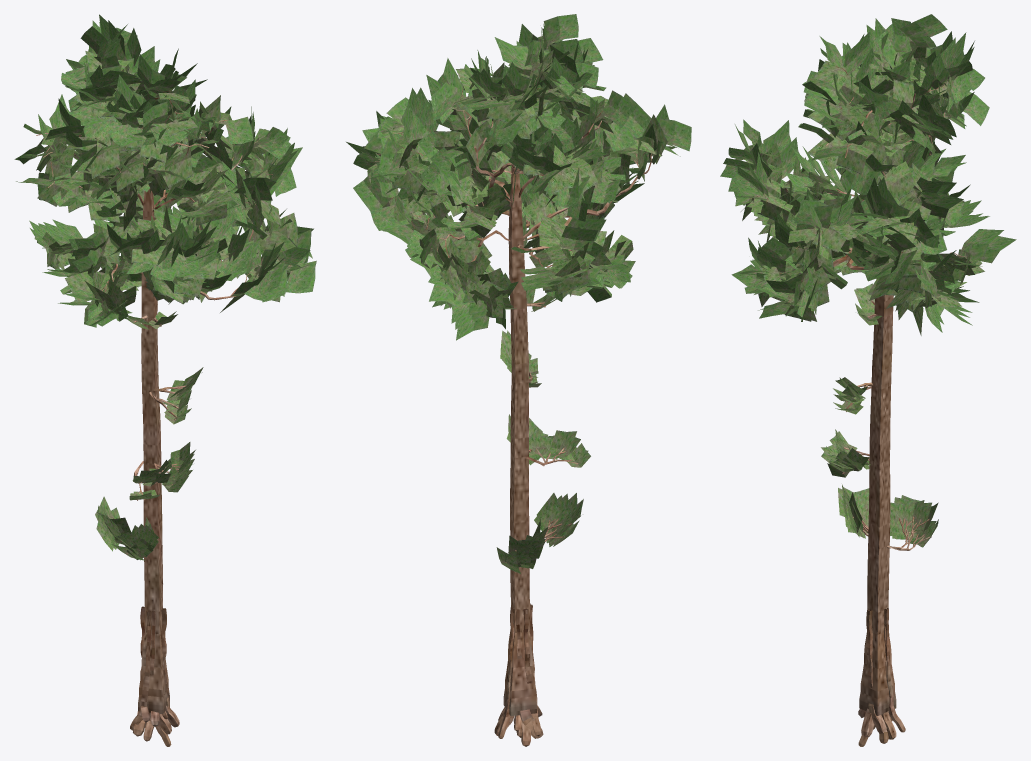
Rendered from tree_9.obj.
The picture shows the model from 3 angles, left to right: view 1: azimuth 30°, elevation 25°; view 2: azimuth 150°, elevation 25°; view 3: azimuth 270°, elevation 25°; orthographic projection. The views are drawn at different scales.
Parts seen in each view (by area): view 1: Tall_Pin; view 2: Tall_Pin; view 3: Tall_Pin.
Part boxes in pixels (box(x1,y1,x2,y2)): Tall_Pin: box(14, 14, 316, 746); Tall_Pin: box(346, 14, 691, 746); Tall_Pin: box(720, 14, 1016, 746).
Size of the model in its own units: 1.5 by 3.68 by 1.39.
Materials: 1 (1 with a texture image).
